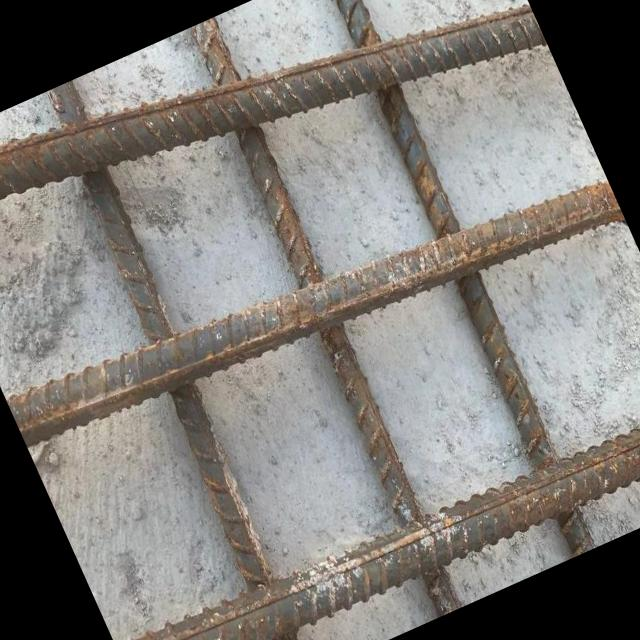ribbed bar: (5, 137, 625, 479), (178, 17, 476, 618), (23, 80, 334, 640), (0, 0, 547, 303), (311, 0, 607, 558), (116, 387, 640, 640)
